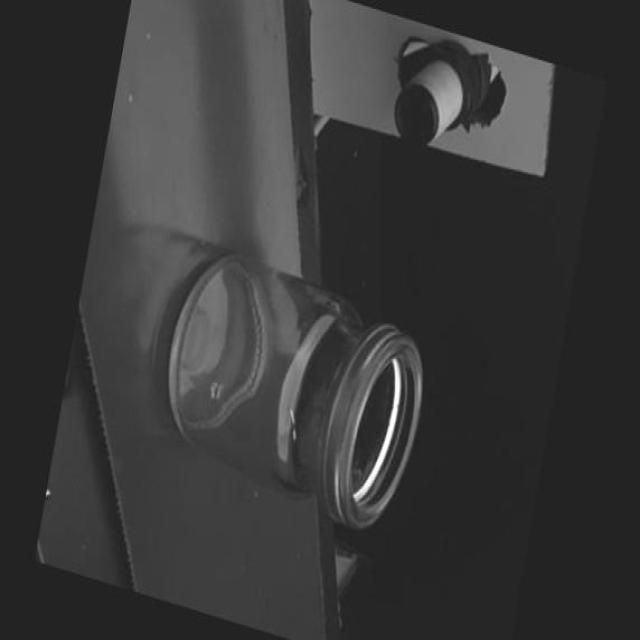defect: (282, 407, 298, 445)
glass: (144, 229, 442, 541)
